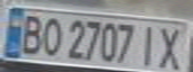0: (100, 19, 121, 64)
2: (63, 16, 87, 61)
7: (115, 20, 139, 65), (81, 17, 103, 62)
B: (15, 11, 48, 55)
I: (136, 21, 163, 70)
O: (36, 15, 66, 57)
X: (151, 23, 190, 71)
